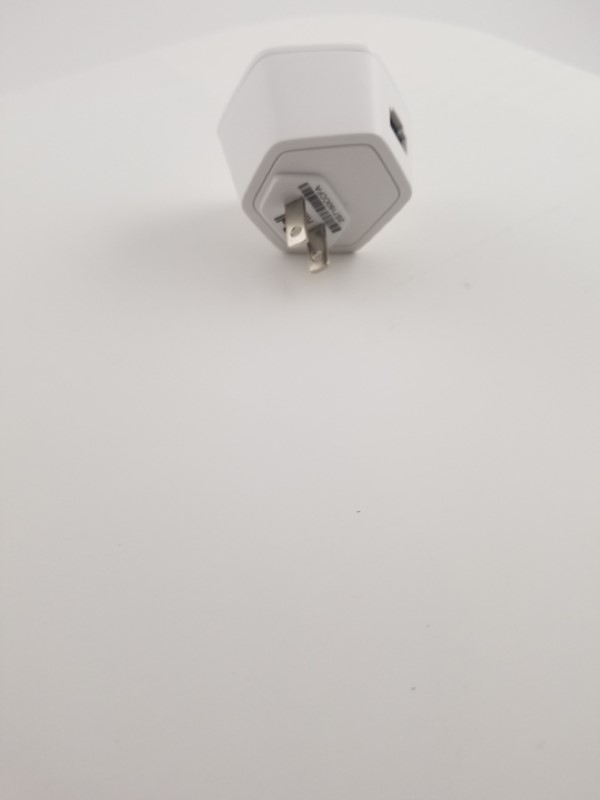pod: (214, 42, 436, 276)
